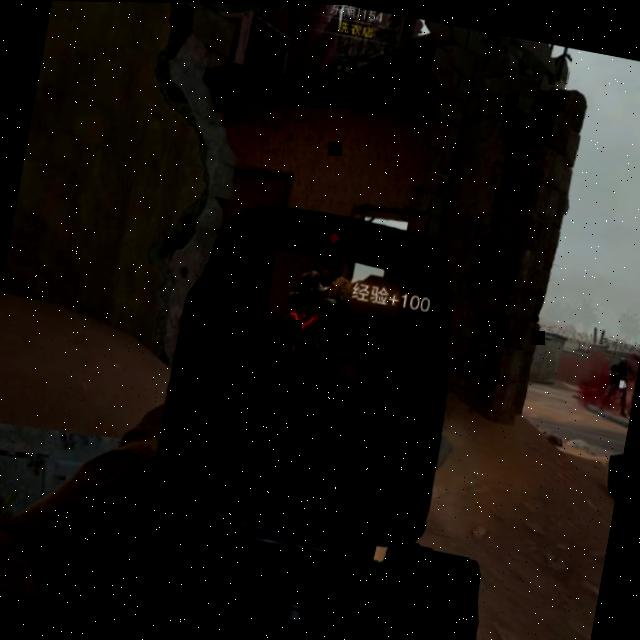MW2_body: (276, 226, 361, 376), (596, 351, 637, 416)
